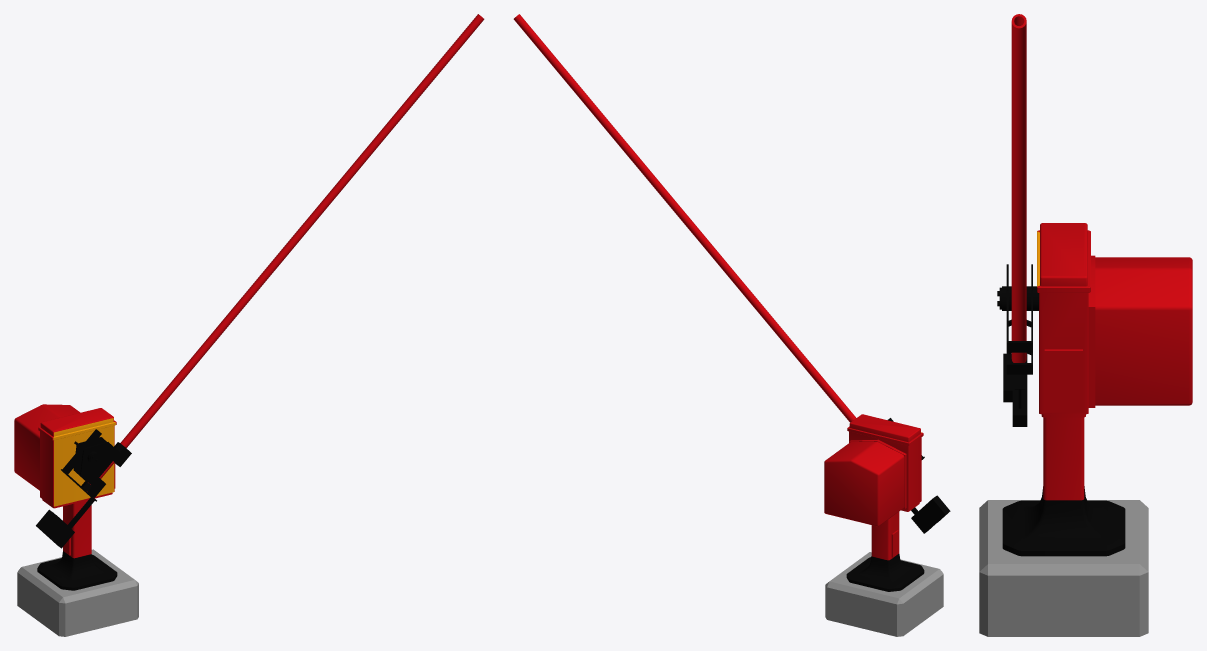
Rendered from 踏切遮断器 1.fbx.
3 views of the same model, side by side, from view 1: azimuth 30°, elevation 25°; view 2: azimuth 150°, elevation 25°; view 3: azimuth 270°, elevation 25° (orthographic). The views are drawn at different scales.
Visible parts, largest first — view 1: 立方体.004, 円柱.019, 立方体.005; view 2: 立方体.004, 立方体.005, 円柱.019; view 3: 立方体.004, 立方体.005, 円柱.019.
Part boxes in pixels (<box>): 立方体.004: <box>14,404,117,590</box>; 円柱.019: <box>36,14,484,548</box>; 立方体.005: <box>17,549,138,636</box>; 立方体.004: <box>824,414,924,591</box>; 立方体.005: <box>825,552,943,636</box>; 円柱.019: <box>513,14,950,533</box>; 立方体.004: <box>1002,223,1192,556</box>; 立方体.005: <box>979,500,1148,636</box>; 円柱.019: <box>997,14,1038,426</box>.
Bounding box in the file's own units: 580 × 635 × 132.
